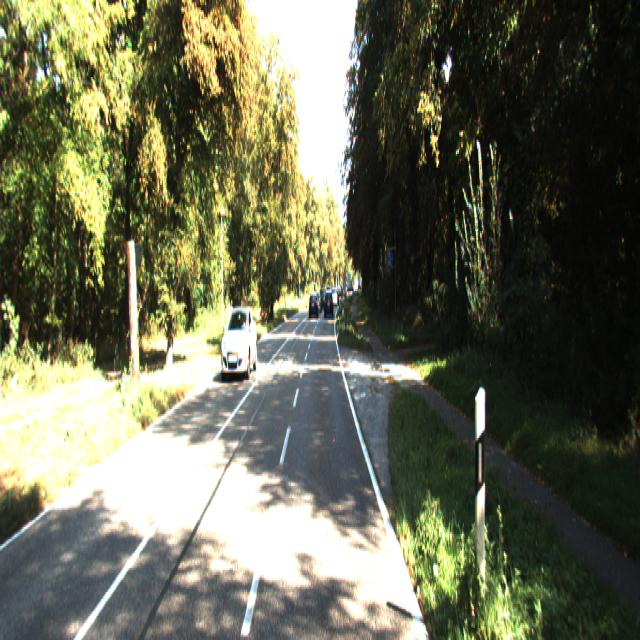Car: (220, 304, 260, 381)
